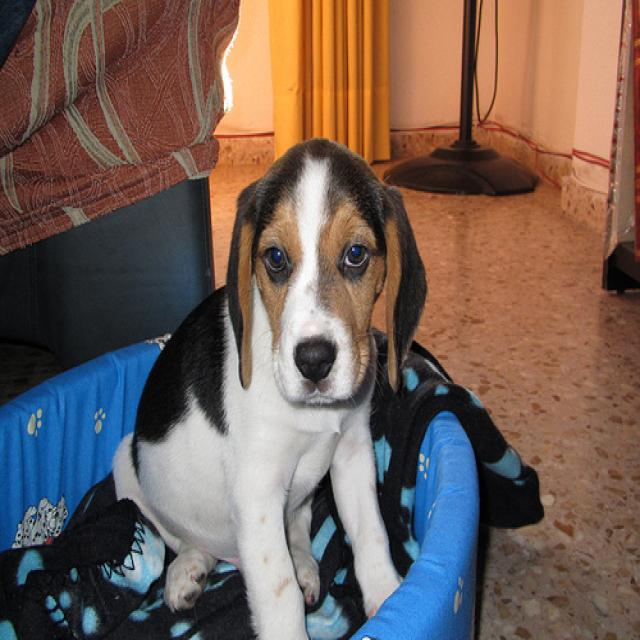dog-beagle: (104, 126, 436, 637)
